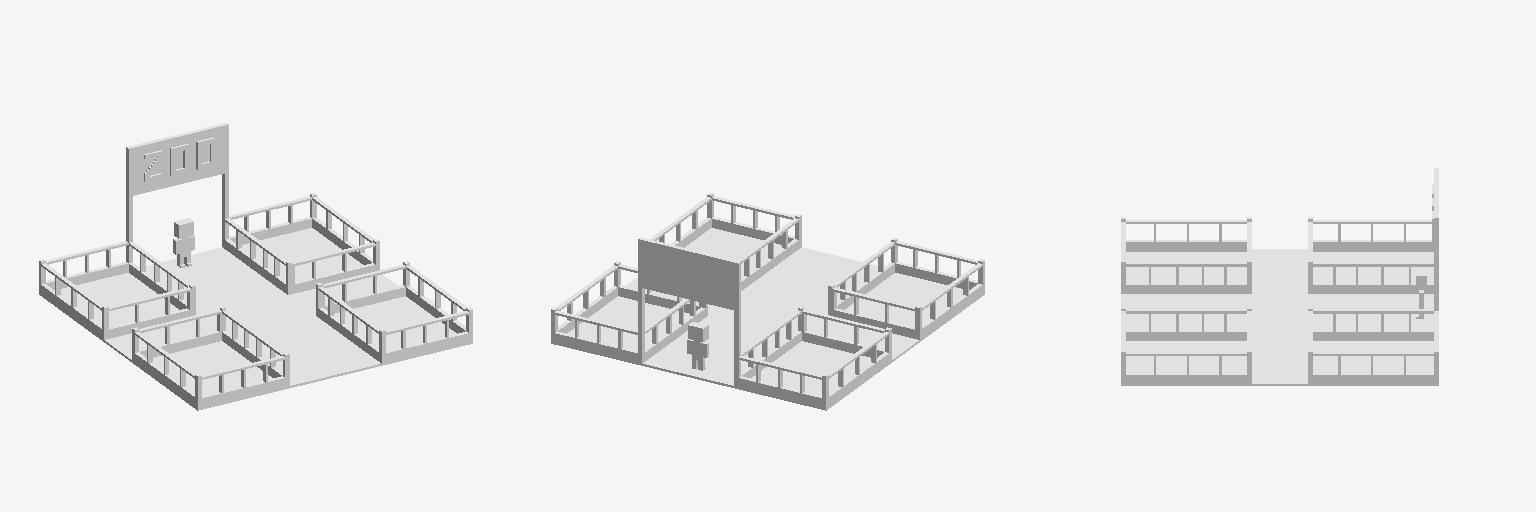
The model's file is zoo-5-zoo.obj.
The picture shows the model from 3 angles: view 1: azimuth 30°, elevation 25°; view 2: azimuth 150°, elevation 25°; view 3: azimuth 270°, elevation 25°; orthographic projection.
Parts seen in each view (by area): view 1: zoo; view 2: zoo; view 3: zoo.
Part boxes in pixels (left/top/right/bottom): zoo: left=39, top=123, right=472, bottom=410; zoo: left=551, top=193, right=984, bottom=410; zoo: left=1121, top=168, right=1438, bottom=385.
Bounding box in the file's own units: 12.6 × 5.5 × 12.6.